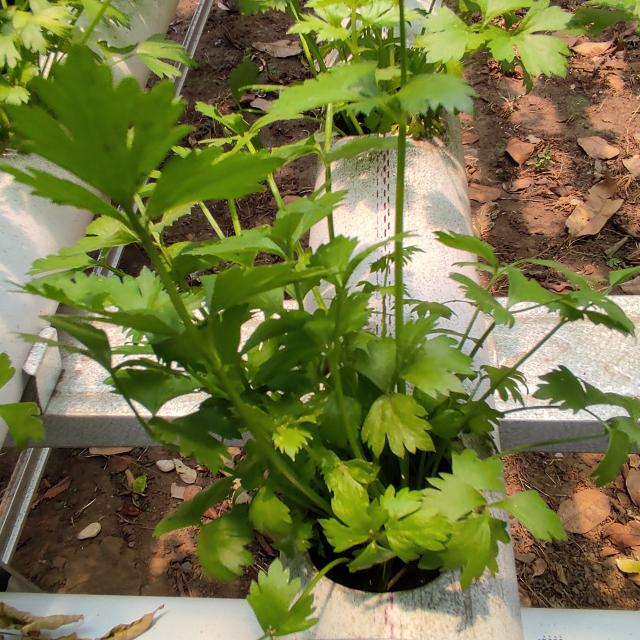Wet Waste: (55, 63, 619, 585)
